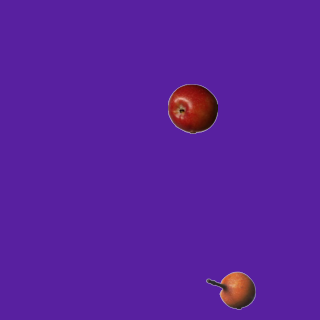Apple Braeburn: (167, 83, 217, 133)
Granadilla: (205, 265, 255, 315)
